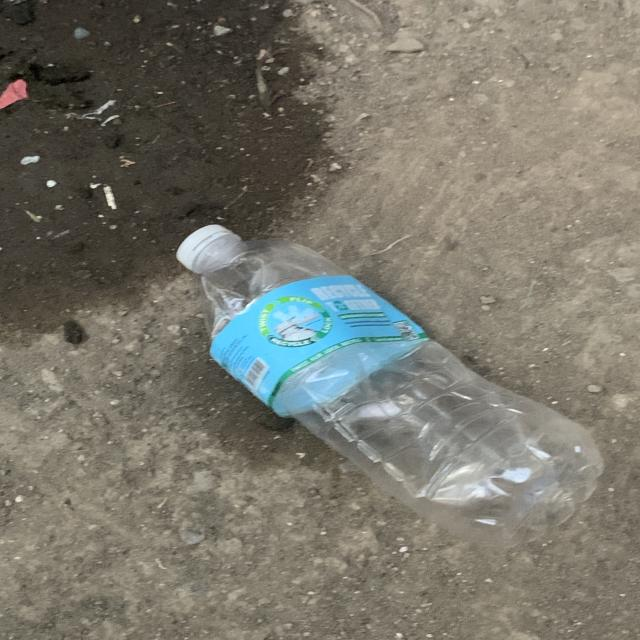Bottle: (177, 224, 604, 547)
